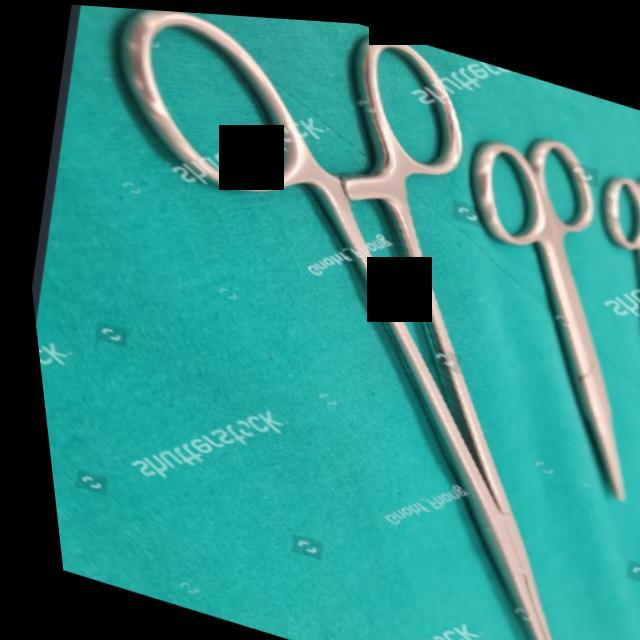Sponge Holding Forceps: (0, 0, 640, 640)
Straight Mayo: (397, 110, 640, 508)
